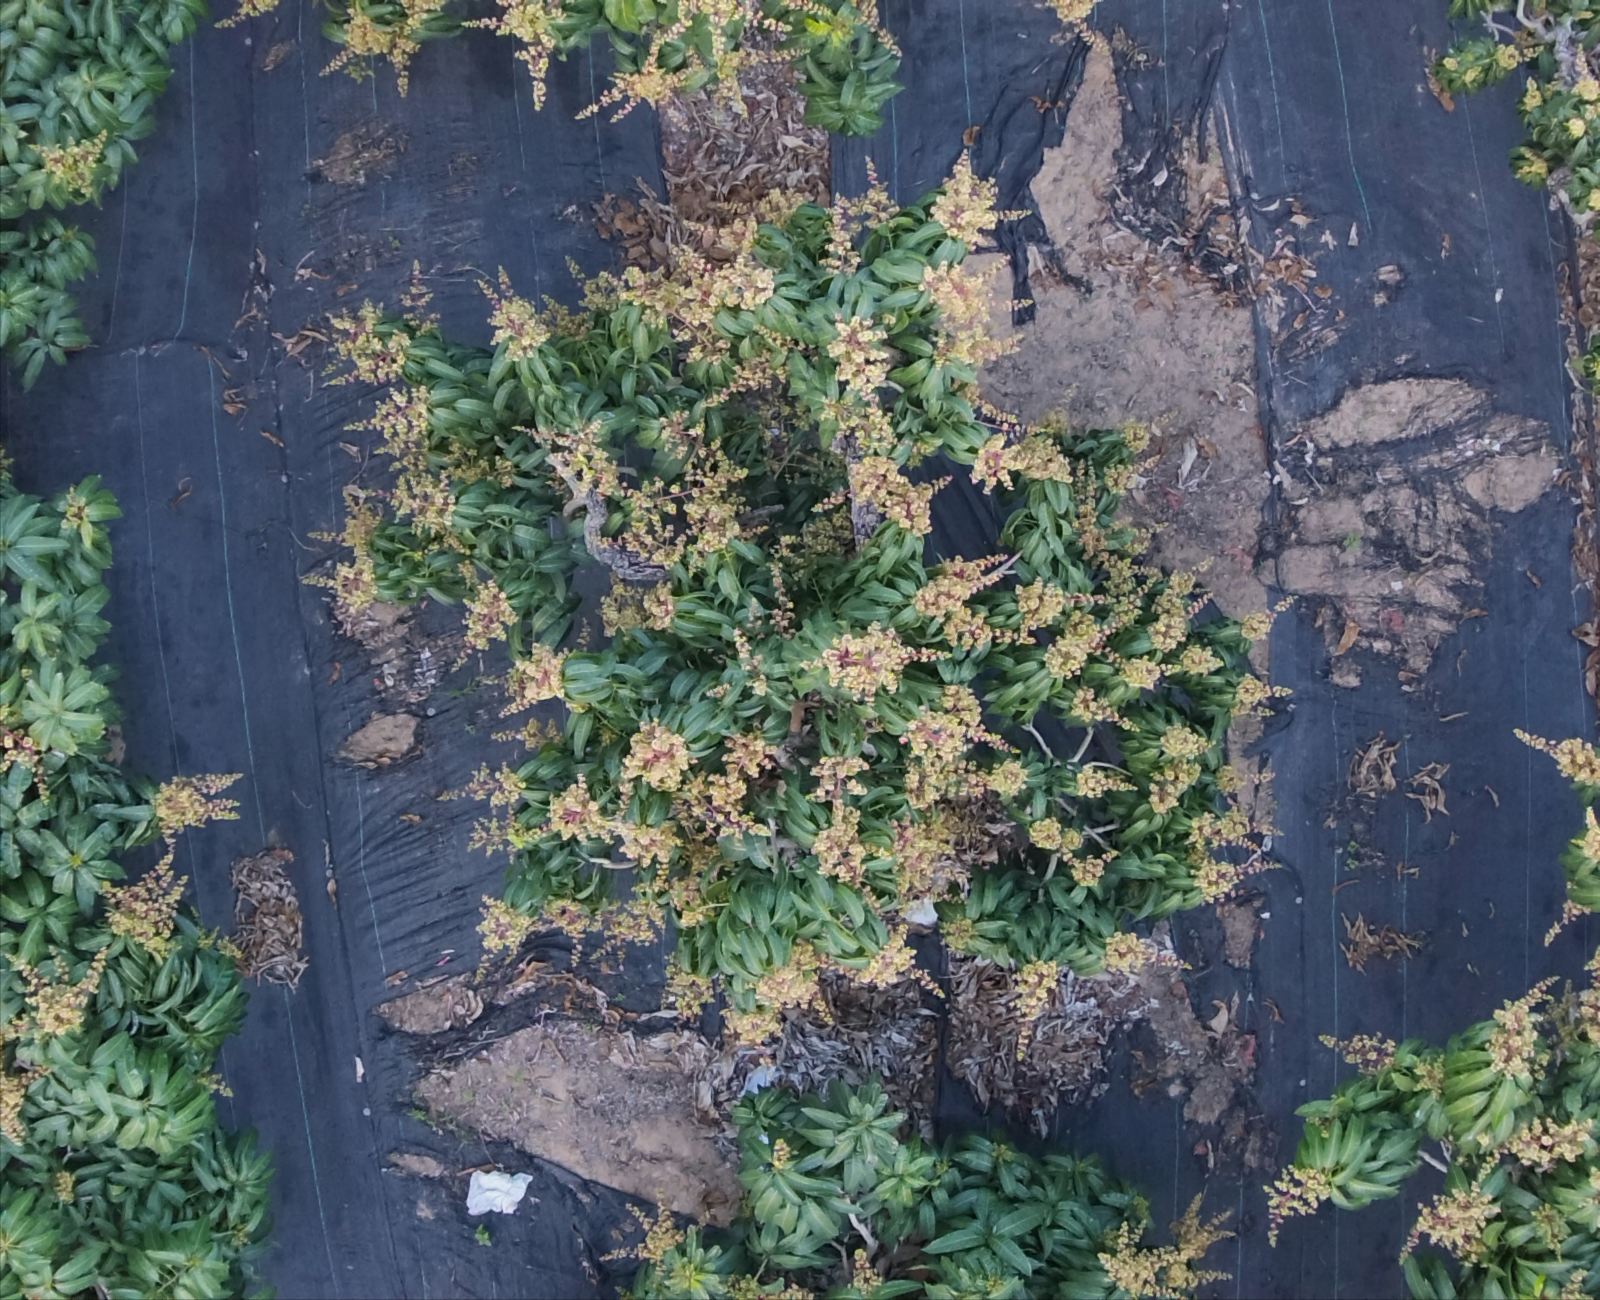flowers: (807, 682, 1022, 913), (1003, 464, 1219, 687), (535, 411, 777, 580), (549, 720, 775, 861), (365, 383, 513, 549), (0, 948, 106, 1142), (586, 249, 773, 358), (602, 0, 759, 110), (1099, 1197, 1233, 1299), (321, 0, 455, 94), (464, 0, 565, 109), (724, 941, 829, 1044), (811, 623, 946, 700), (921, 261, 1015, 367), (601, 872, 715, 958), (913, 554, 1016, 649), (478, 269, 585, 359), (930, 151, 1026, 249), (827, 316, 896, 451), (846, 454, 949, 544), (1187, 804, 1279, 902), (302, 495, 379, 612), (824, 158, 900, 273), (103, 852, 184, 956), (574, 57, 703, 119), (708, 326, 808, 403), (1402, 1185, 1499, 1262), (478, 895, 596, 952), (330, 301, 410, 383), (1487, 979, 1552, 1078), (971, 424, 1071, 489), (850, 925, 941, 996), (1028, 816, 1117, 886), (154, 773, 240, 842), (776, 504, 854, 576), (1264, 1165, 1331, 1246), (1150, 724, 1209, 813), (601, 1201, 685, 1262), (1500, 1117, 1593, 1170), (1114, 643, 1222, 688), (38, 130, 107, 198), (501, 645, 567, 715), (0, 704, 46, 799), (1014, 960, 1057, 1059), (0, 1047, 44, 1142), (600, 581, 675, 635), (464, 578, 516, 650), (436, 765, 524, 804), (1102, 933, 1186, 972), (1071, 686, 1133, 730), (666, 959, 712, 1017), (1231, 674, 1291, 718), (852, 0, 900, 54), (1550, 738, 1599, 785), (732, 627, 766, 695), (1343, 1033, 1397, 1074), (1543, 899, 1591, 946), (727, 1273, 815, 1299), (492, 719, 559, 749), (1075, 763, 1132, 797), (1579, 948, 1599, 1047), (1567, 76, 1599, 137), (1532, 1202, 1568, 1254), (1296, 1096, 1347, 1132), (215, 0, 279, 28), (1542, 1268, 1593, 1299), (1512, 146, 1550, 186), (852, 1248, 882, 1296), (199, 927, 243, 959), (1105, 462, 1146, 493), (1575, 808, 1599, 862), (941, 917, 974, 952), (1413, 1055, 1443, 1093), (1497, 42, 1538, 70), (1120, 421, 1150, 452), (1240, 612, 1274, 641), (671, 1263, 702, 1292), (1519, 77, 1544, 111), (1217, 764, 1244, 793), (52, 1170, 76, 1203), (771, 1139, 791, 1170), (597, 720, 620, 747), (459, 558, 478, 582), (706, 682, 728, 698), (1589, 1167, 1599, 1203), (565, 699, 589, 712), (1589, 186, 1599, 210), (620, 1288, 635, 1299)
